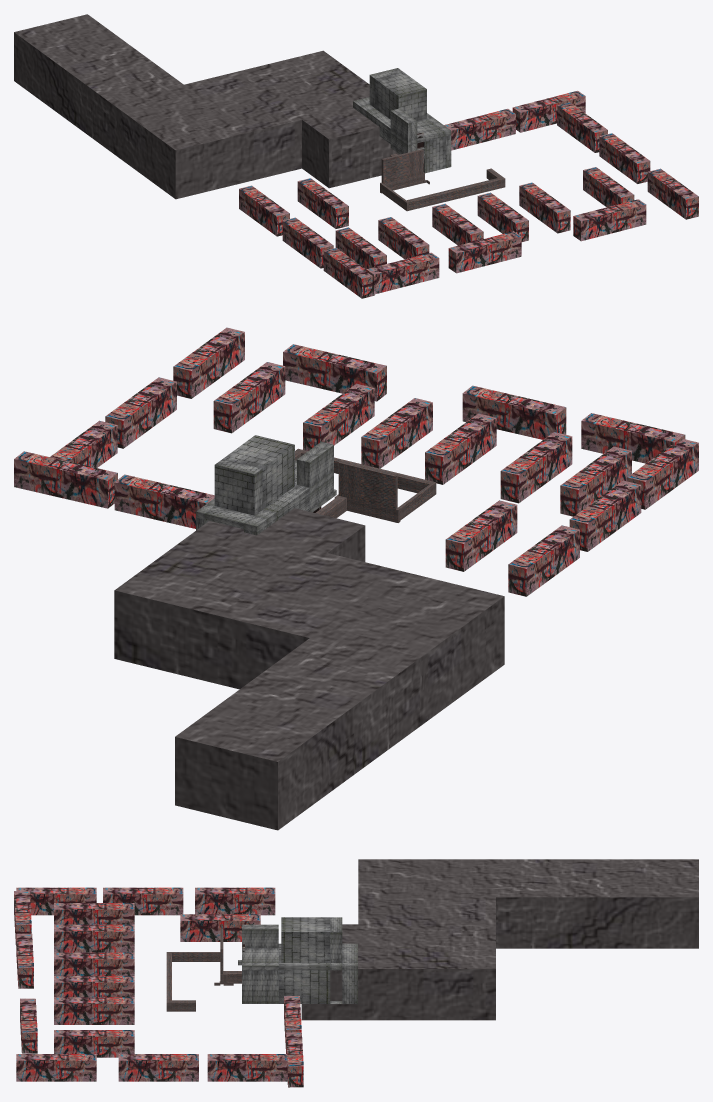
The model's file is decor6.obj.
3 views of the same model, one above another, from view 1: azimuth 30°, elevation 25°; view 2: azimuth 150°, elevation 25°; view 3: azimuth 270°, elevation 25° (orthographic). The views are drawn at different scales.
Parts seen in each view (by area): view 1: Cube.024_Cube.023, Cube.012_Cube.014, Cube.009_Cube.008, Cube.032, Cube.033, Cube.034, Cube.037, Cube.038, Cube.025_Cube.013, Cube.031, Cube.036, Cube.026 (+9 smaller); view 2: Cube.024_Cube.023, Cube.012_Cube.014, Cube.009_Cube.008, Cube.038, Cube.033, Cube.032, Cube.037, Cube.034, Cube.029, Cube.031, Cube.027, Cube.042 (+9 smaller); view 3: Cube.024_Cube.023, Cube.012_Cube.014, Cube.029, Cube.042, Cube.025_Cube.013, Cube.026, Cube.036, Cube.039, Cube.027, Cube.035, Cube.041, Cube.031 (+9 smaller).
Boxes of the visible parts, x1,y1,x2,y2 form: Cube.024_Cube.023: [14, 14, 399, 199]; Cube.012_Cube.014: [353, 68, 451, 173]; Cube.009_Cube.008: [380, 149, 505, 211]; Cube.032: [448, 231, 521, 273]; Cube.033: [573, 199, 646, 241]; Cube.034: [366, 252, 439, 294]; Cube.037: [444, 108, 515, 150]; Cube.038: [512, 90, 585, 132]; Cube.025_Cube.013: [647, 168, 698, 219]; Cube.031: [297, 178, 348, 228]; Cube.036: [519, 182, 570, 233]; Cube.026: [599, 133, 650, 183]; Cube.024_Cube.023: [114, 508, 504, 830]; Cube.012_Cube.014: [196, 435, 336, 535]; Cube.009_Cube.008: [295, 448, 436, 522]; Cube.038: [14, 451, 117, 508]; Cube.033: [283, 344, 386, 401]; Cube.032: [462, 385, 566, 439]; Cube.037: [114, 474, 214, 528]; Cube.034: [581, 413, 685, 463]; Cube.029: [500, 432, 572, 503]; Cube.031: [445, 500, 517, 571]; Cube.027: [213, 362, 285, 433]; Cube.042: [508, 525, 579, 596]; Cube.024_Cube.023: [301, 859, 698, 1020]; Cube.012_Cube.014: [238, 917, 357, 1003]; Cube.029: [54, 924, 134, 952]; Cube.042: [195, 887, 275, 915]; Cube.025_Cube.013: [16, 1054, 96, 1081]; Cube.026: [118, 1054, 198, 1081]; Cube.036: [54, 997, 134, 1024]; Cube.039: [207, 1054, 287, 1081]; Cube.027: [54, 1030, 134, 1057]; Cube.035: [54, 952, 134, 975]; Cube.041: [103, 887, 183, 915]; Cube.031: [180, 914, 260, 941].
Bounding box in the file's own units: 43506 × 9359 × 65116.
Materials: 6 (5 with a texture image).
